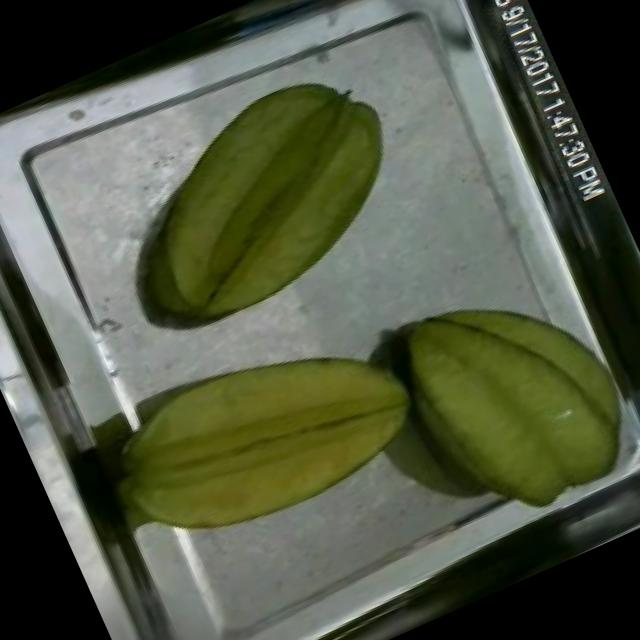fruit: (71, 286, 446, 586), (101, 41, 439, 347), (365, 243, 640, 553)
